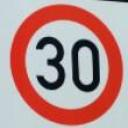speed_limit_30: (8, 2, 125, 126)
